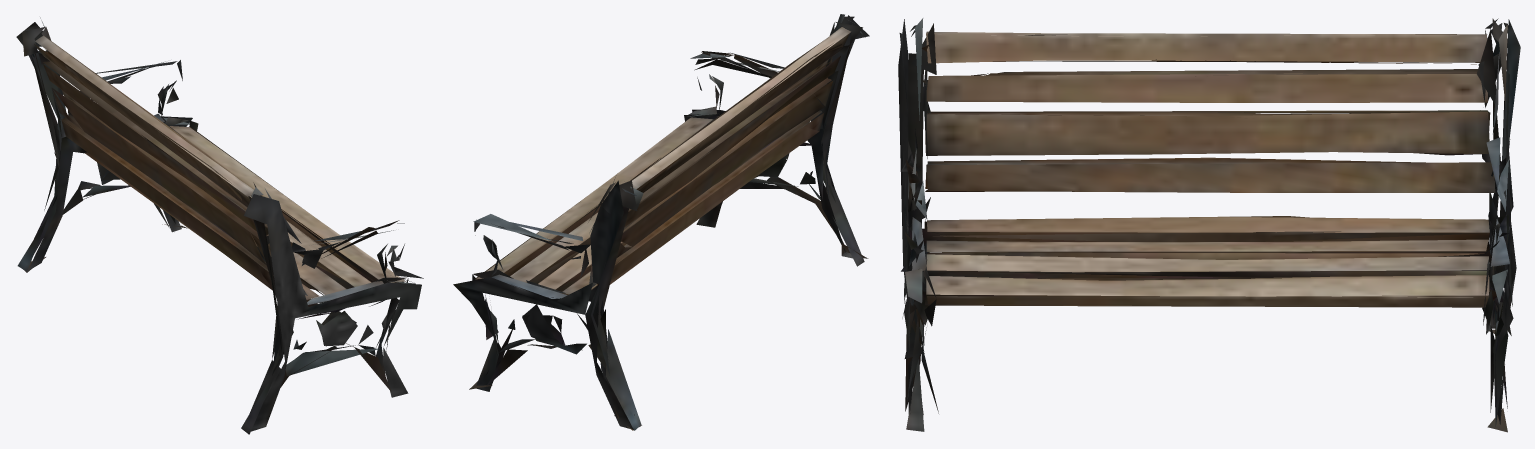
The model's file is stadt_bank_lo.glb.
The picture shows the model from 3 angles, left to right: view 1: azimuth 30°, elevation 25°; view 2: azimuth 150°, elevation 25°; view 3: azimuth 270°, elevation 25°; orthographic projection. The views are drawn at different scales.
Parts seen in each view (by area): view 1: Prop; view 2: Prop; view 3: Prop.
Boxes of the visible parts, bbox=[...] form: Prop: bbox=[16, 17, 423, 434]; Prop: bbox=[453, 14, 869, 430]; Prop: bbox=[898, 18, 1520, 432].
Size of the model in its own units: 0.7874 by 1.04 by 1.77.
Materials: 1 (1 with a texture image).
